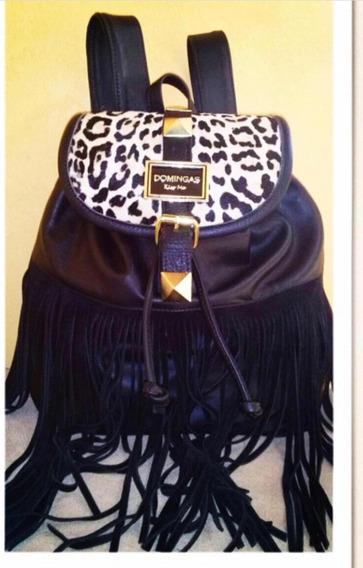cartera: (14, 12, 335, 440)
